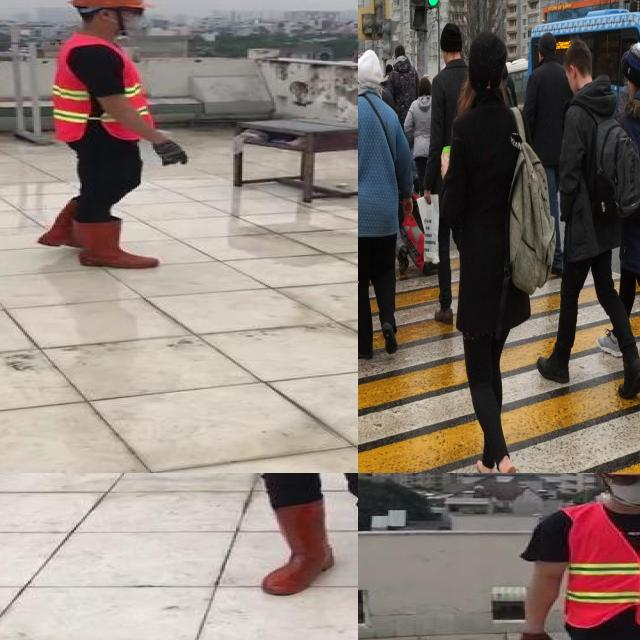Barefoots: (476, 459, 496, 473), (498, 461, 516, 473)
boots: (263, 499, 332, 597), (72, 219, 158, 268), (36, 198, 80, 247)
face_mask: (606, 473, 640, 508), (111, 5, 152, 33)
glasses: (605, 473, 640, 489)
hand_glove: (148, 140, 188, 167), (514, 632, 556, 640)
head_helmet: (66, 0, 153, 10)
person: (20, 0, 194, 272), (141, 473, 358, 638), (513, 473, 640, 640)
vest: (54, 33, 158, 141), (562, 504, 640, 630)
